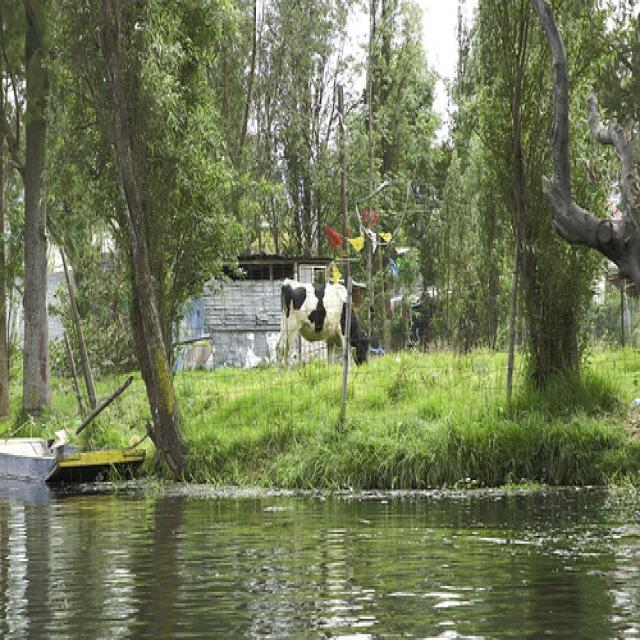boat: (1, 437, 92, 483)
cow: (272, 275, 371, 375)
